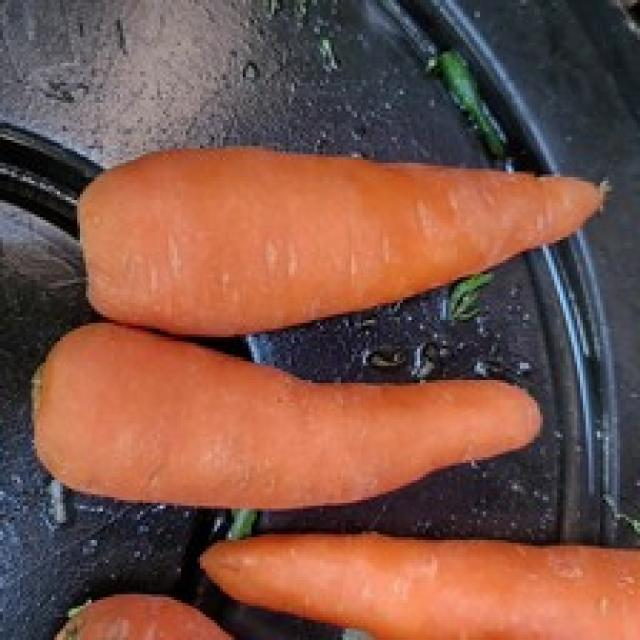Fresh_Carrot: (43, 131, 640, 640)
